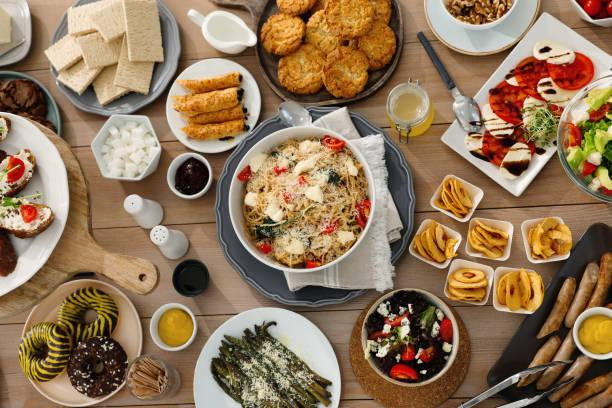Braised Crucian Carp: (439, 11, 607, 196), (486, 223, 611, 403), (228, 124, 371, 273), (253, 0, 400, 106), (20, 279, 142, 406), (48, 0, 180, 116), (193, 306, 340, 405), (361, 288, 456, 387), (167, 57, 259, 154), (571, 307, 612, 358)
